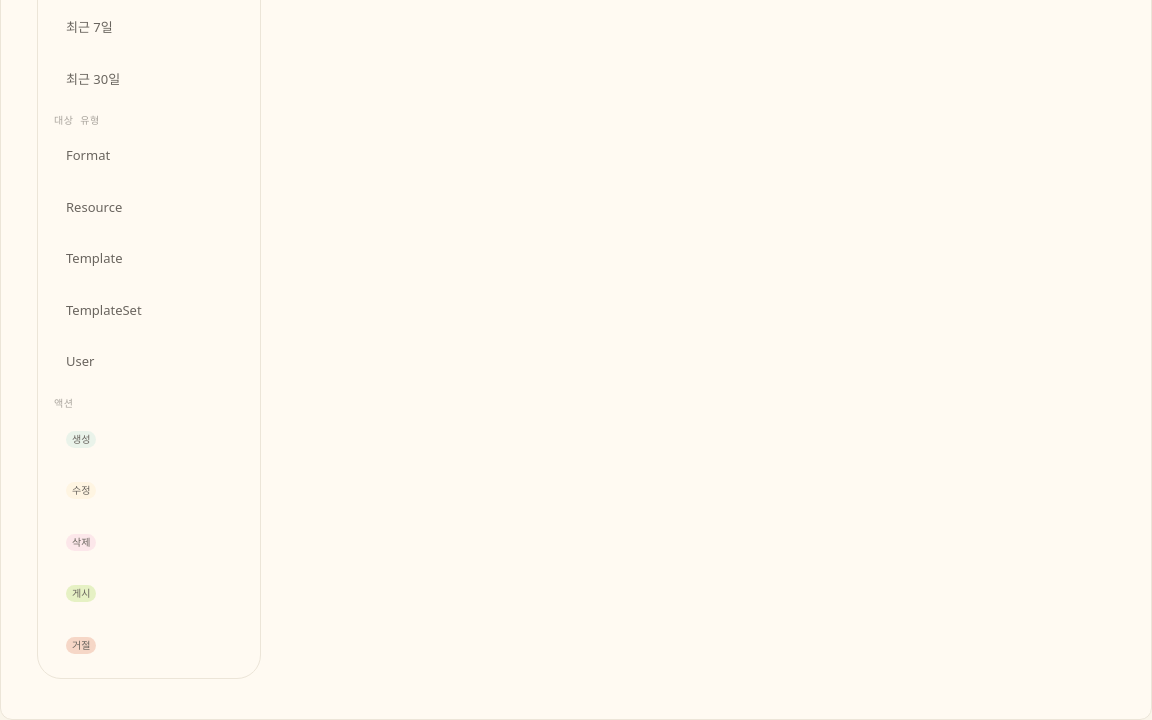
Test: AuditListClient › 필터 초기화 버튼이 활성 필터 있을 때만 노출된다
This screenshot has width=1152, height=720.
(page scrolled)
Expected: the text "필터 초기화" is not shown
// 액션 필터 클릭
Click the button "생성": (149, 439) [54,421,244,456]
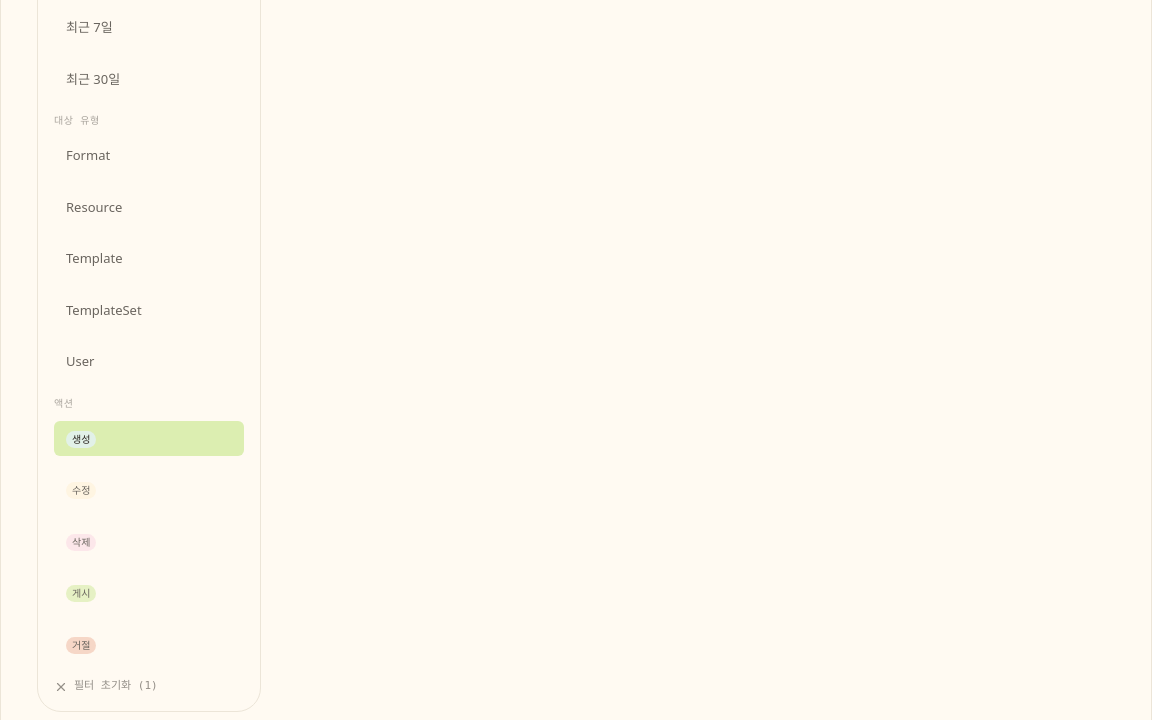
Result: the button "필터 초기화 (1)" is shown at [54,678,244,695]
